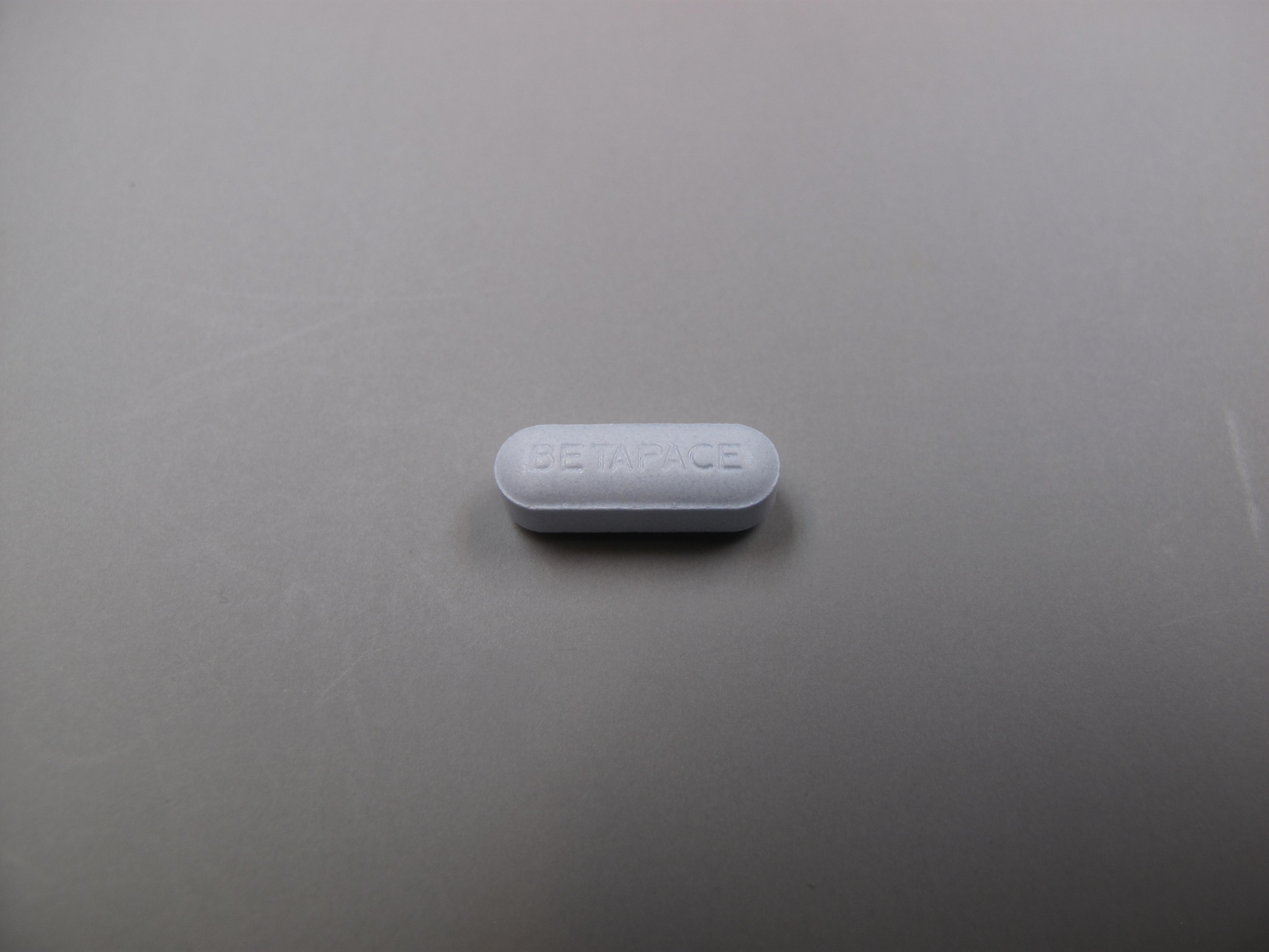Pill: (487, 417, 792, 546)
